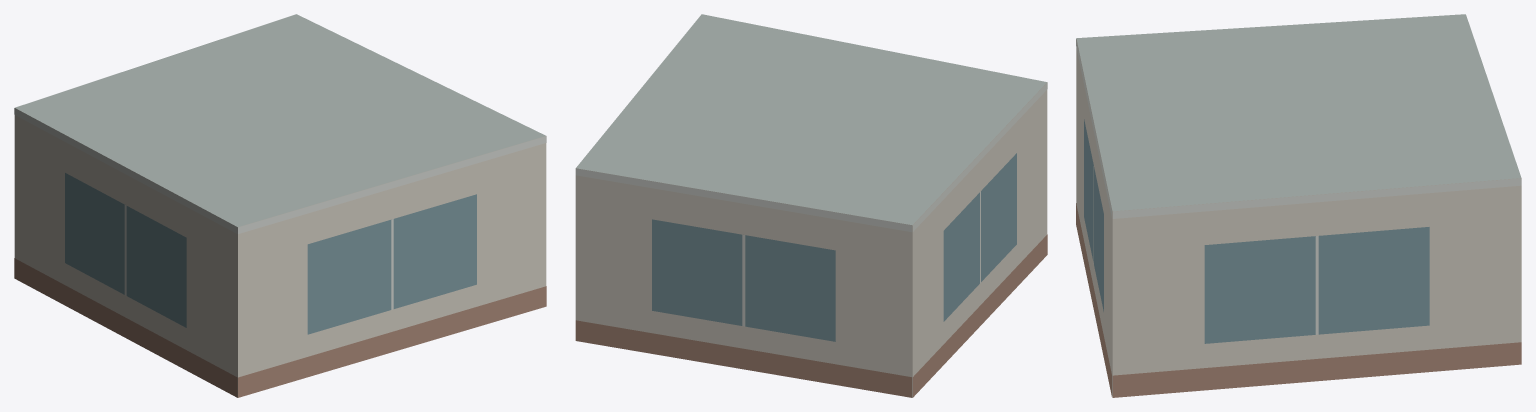
The model's file is survey-upis-32805909.glb.
The picture shows the model from 3 angles, left to right: view 1: azimuth 30°, elevation 25°; view 2: azimuth 150°, elevation 25°; view 3: azimuth 270°, elevation 25°; orthographic projection. The views are drawn at different scales.
Visible parts, largest first — view 1: survey-upis-32805909.tmp; view 2: survey-upis-32805909.tmp; view 3: survey-upis-32805909.tmp.
Part boxes in pixels (x1,y1,x2,y2): survey-upis-32805909.tmp: [14, 14, 546, 397]; survey-upis-32805909.tmp: [575, 14, 1047, 397]; survey-upis-32805909.tmp: [1076, 14, 1521, 397].
Bounding box in the file's own units: 6.94 × 3.05 × 6.61.
